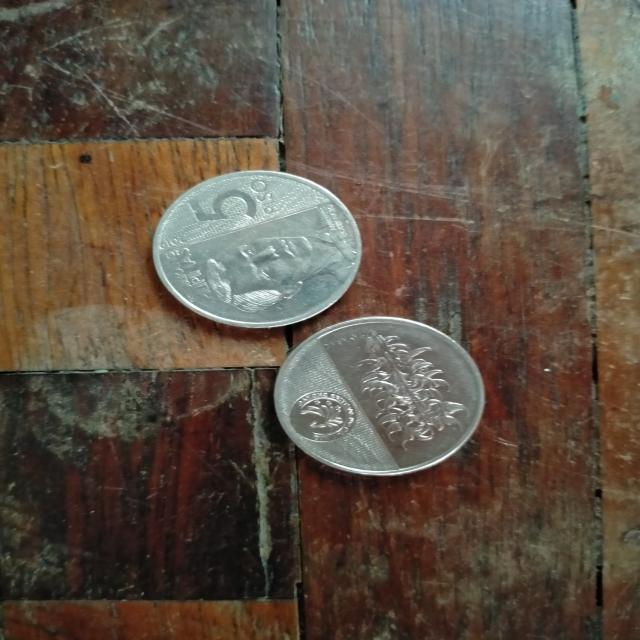5_New_Back: (350, 315, 475, 453)
5_New_Front: (178, 174, 283, 230)
